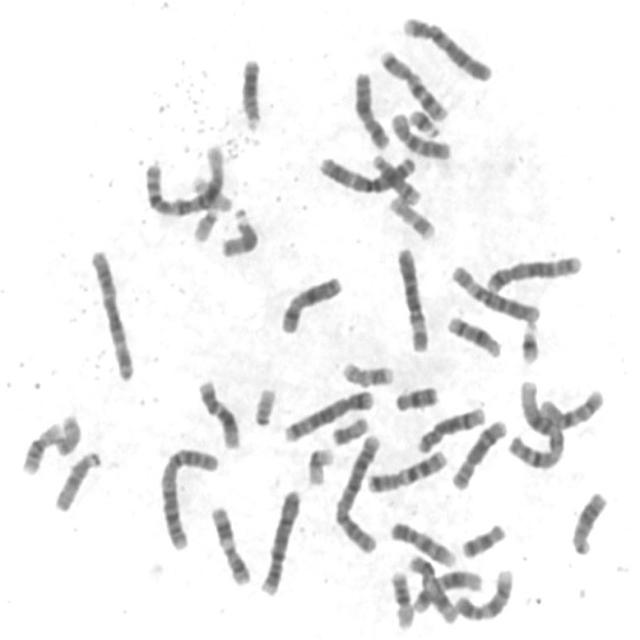A1: (139, 138, 227, 218), (502, 375, 568, 472)
A2: (154, 441, 221, 553), (330, 428, 385, 556)
A3: (84, 242, 136, 382), (312, 148, 420, 199)
B4: (398, 9, 495, 83), (254, 482, 304, 598)
B5: (279, 384, 375, 444), (481, 248, 585, 294)
C10: (385, 106, 453, 161), (533, 382, 606, 432)
C11: (402, 549, 460, 626), (205, 499, 252, 588)
C12: (192, 372, 242, 450), (409, 565, 484, 614)
C6: (446, 258, 542, 324), (390, 240, 432, 353)
C7: (374, 43, 450, 124), (362, 443, 450, 495)
C8: (447, 413, 509, 492), (411, 400, 488, 454)
C9: (385, 515, 458, 568), (452, 562, 516, 622)
D13: (566, 485, 610, 557), (235, 50, 264, 132)
D14: (441, 308, 503, 360), (372, 154, 422, 206)
D15: (48, 444, 104, 514), (215, 202, 260, 260)
E16: (16, 416, 63, 476), (385, 564, 416, 630)
E17: (384, 189, 438, 241), (337, 355, 396, 388)
E18: (457, 517, 508, 560), (390, 380, 440, 413)
F19: (186, 171, 234, 217), (301, 442, 337, 488)
F20: (327, 410, 371, 447), (50, 413, 87, 457)
G21: (403, 101, 443, 139), (515, 316, 542, 365)
G22: (248, 380, 278, 428), (187, 202, 220, 244)
X: (274, 268, 344, 336), (348, 64, 392, 151)
